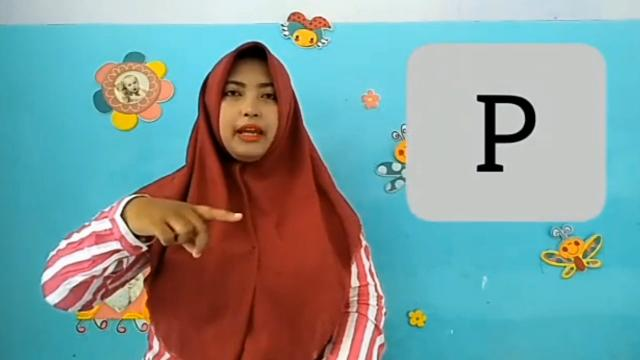P: (132, 194, 248, 264)
